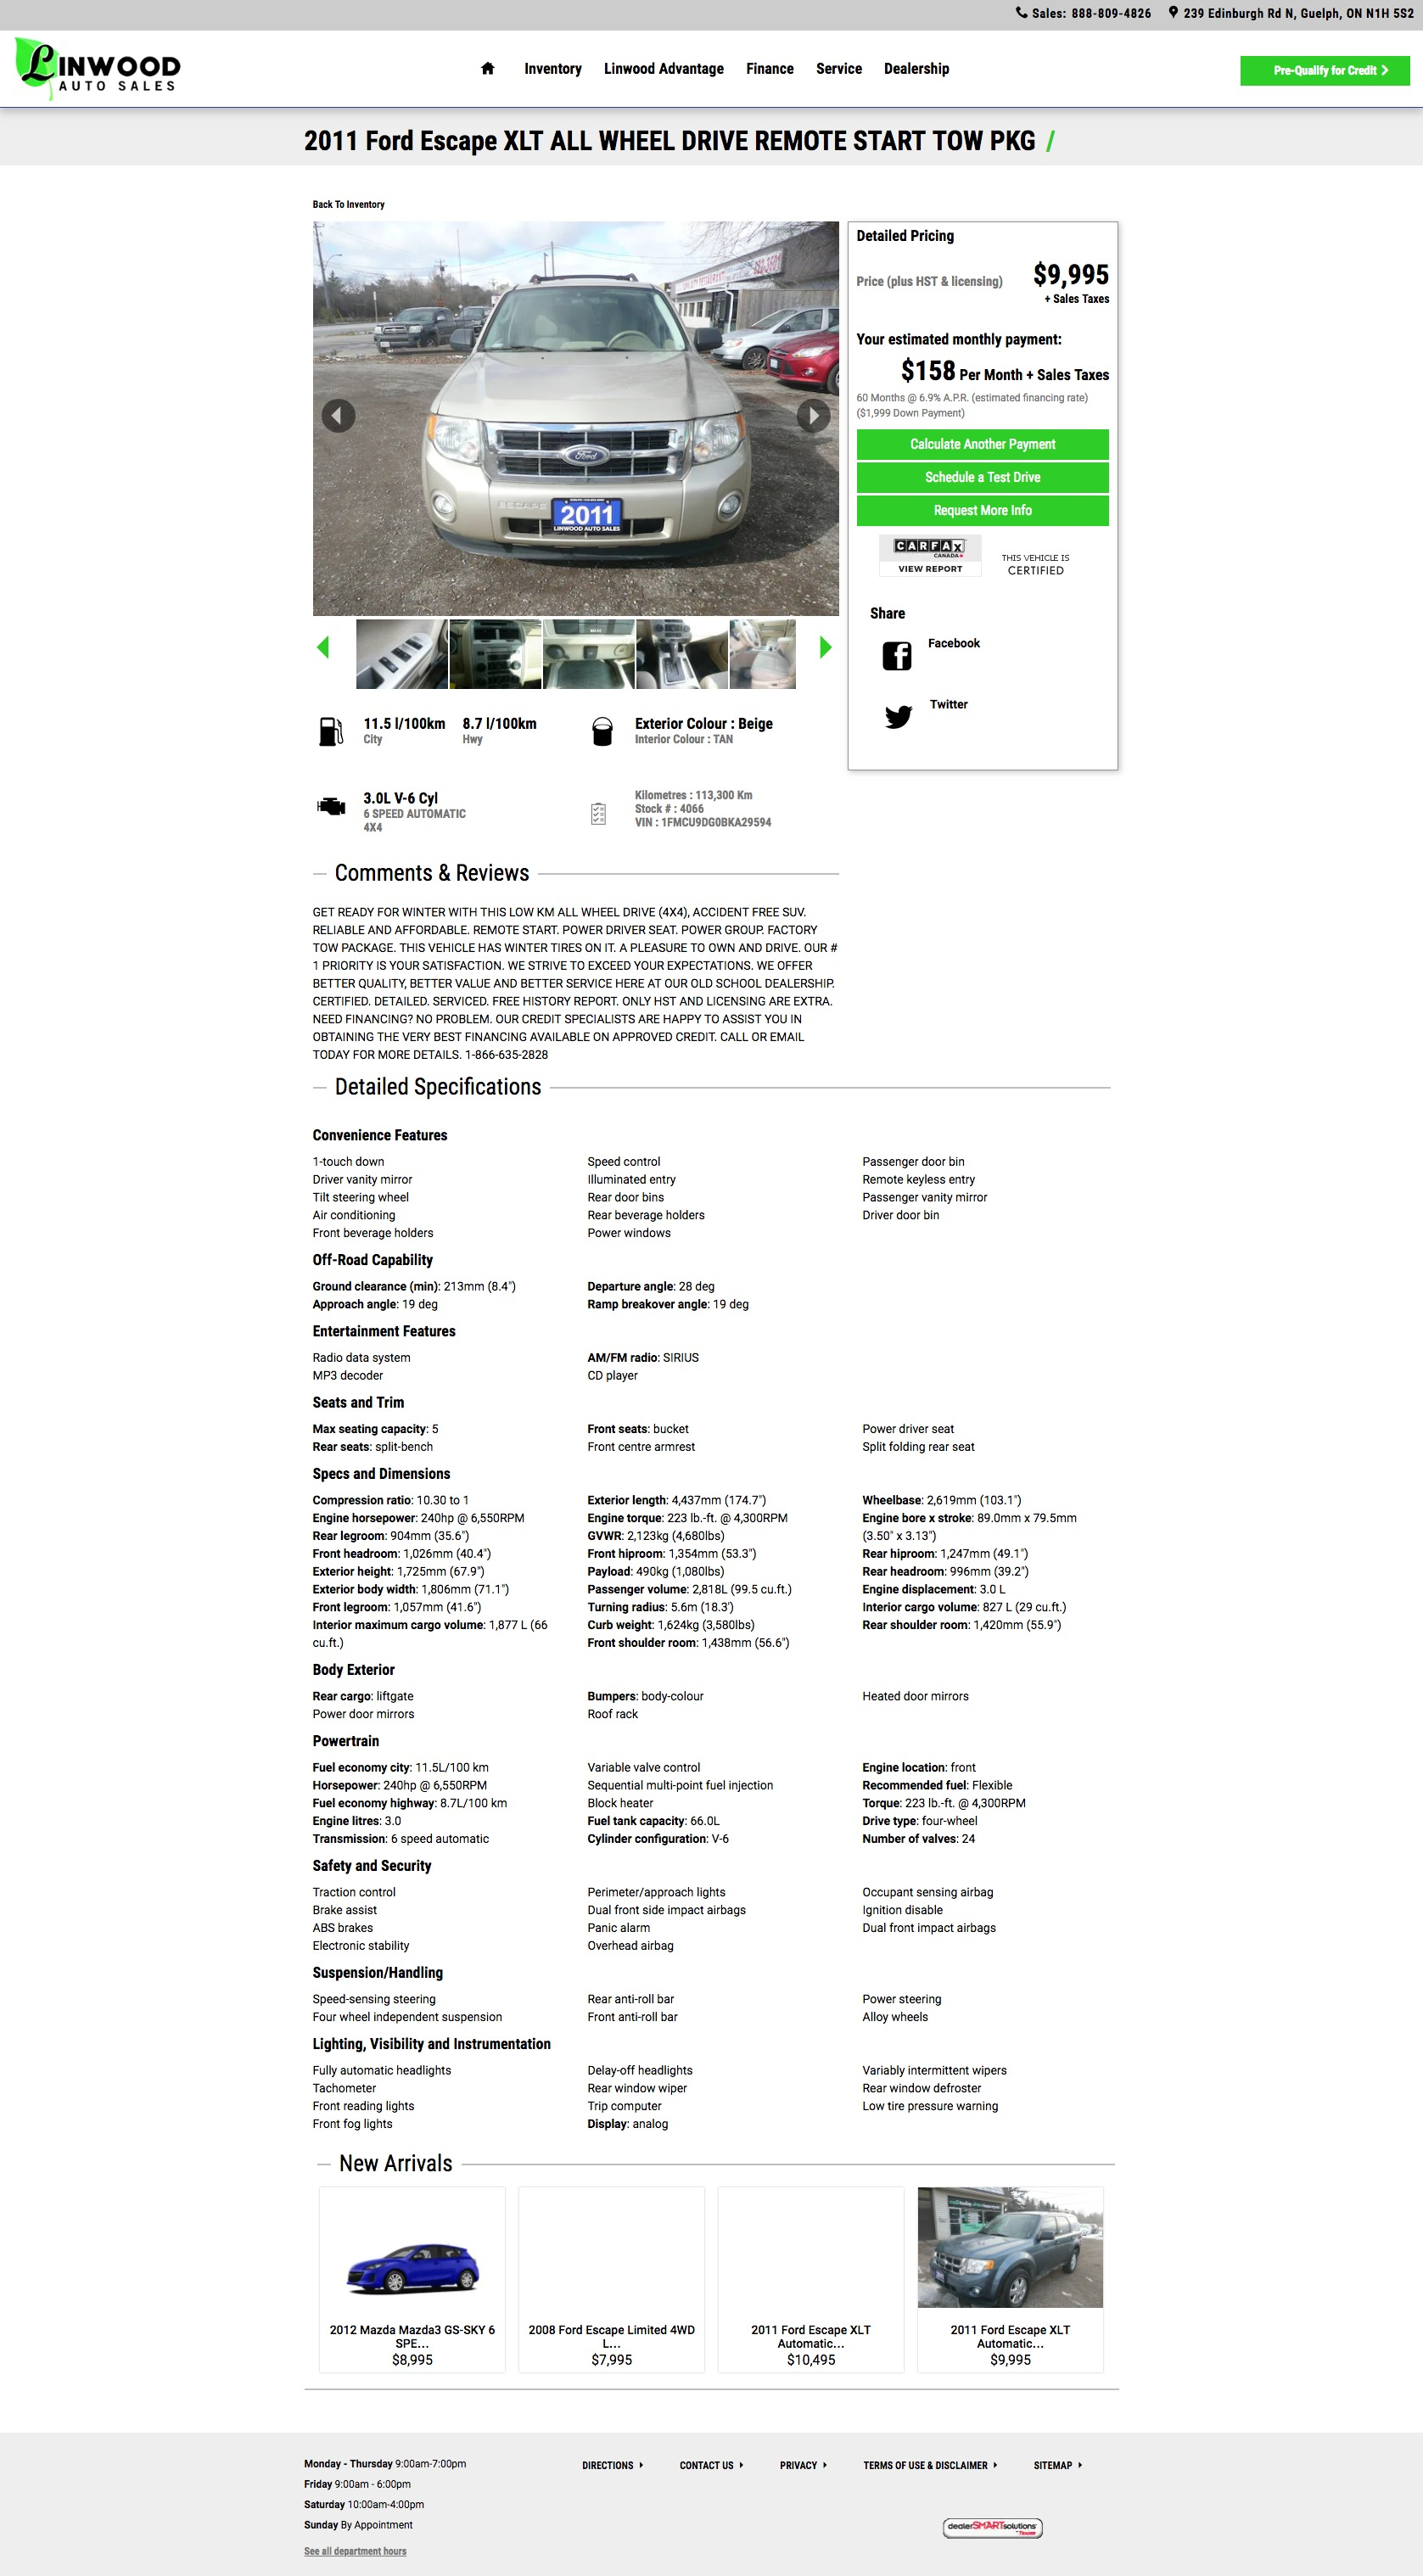car: (820, 638, 834, 661)
